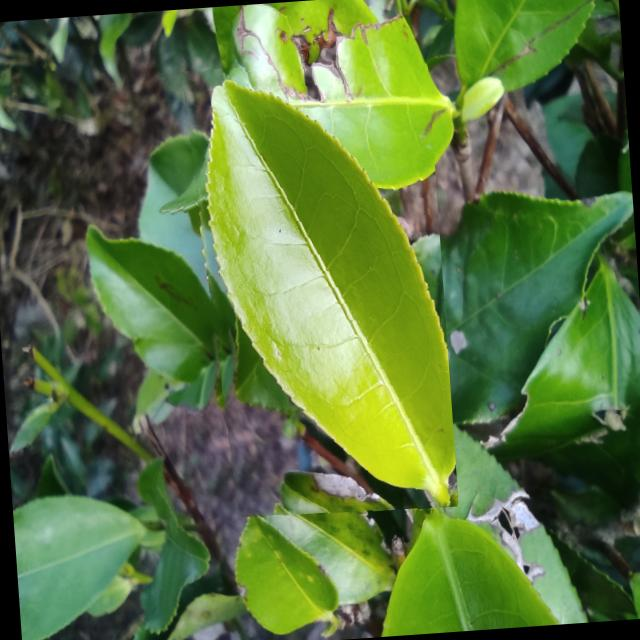Category B(2-4 days): (180, 54, 458, 524)
